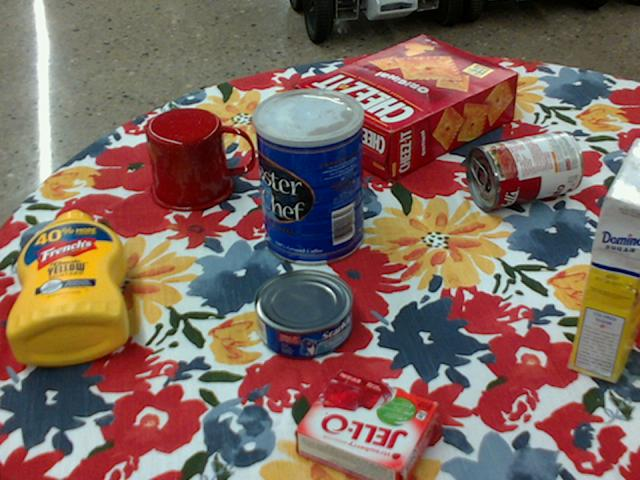cracker_box: (297, 36, 519, 182)
gelatin_box: (297, 371, 444, 479)
master_chef_can: (252, 87, 364, 265)
mug: (145, 107, 253, 211)
mustard_bottle: (8, 210, 129, 365)
sugar_box: (570, 137, 639, 383)
tomato_soup_can: (467, 129, 584, 210)
tuna_fish_can: (254, 270, 353, 360)
